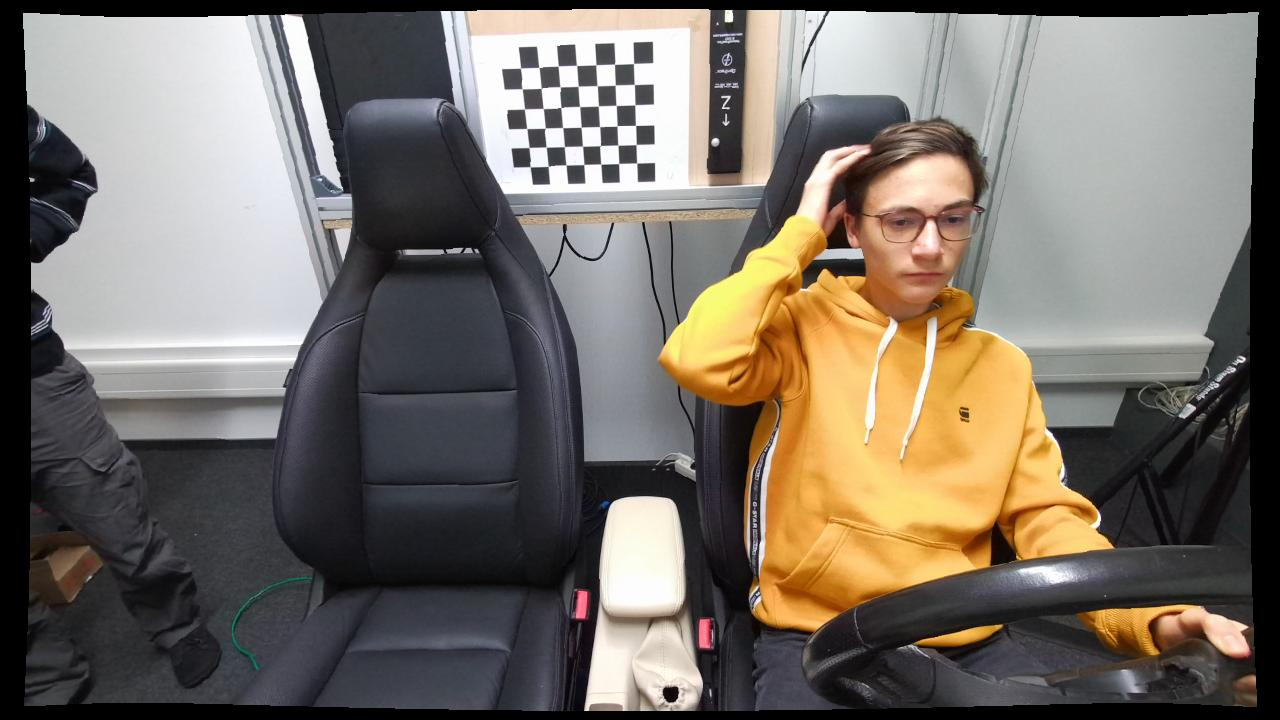Distracted: (660, 116, 1041, 714)
